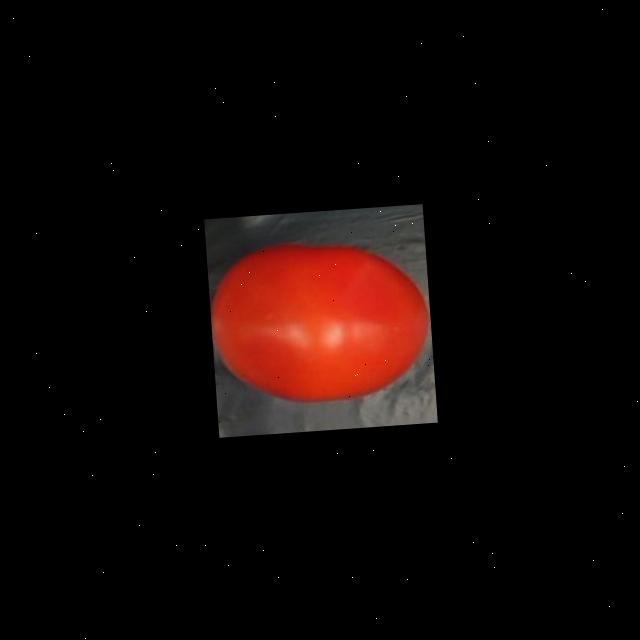tomato: (206, 229, 435, 411)
